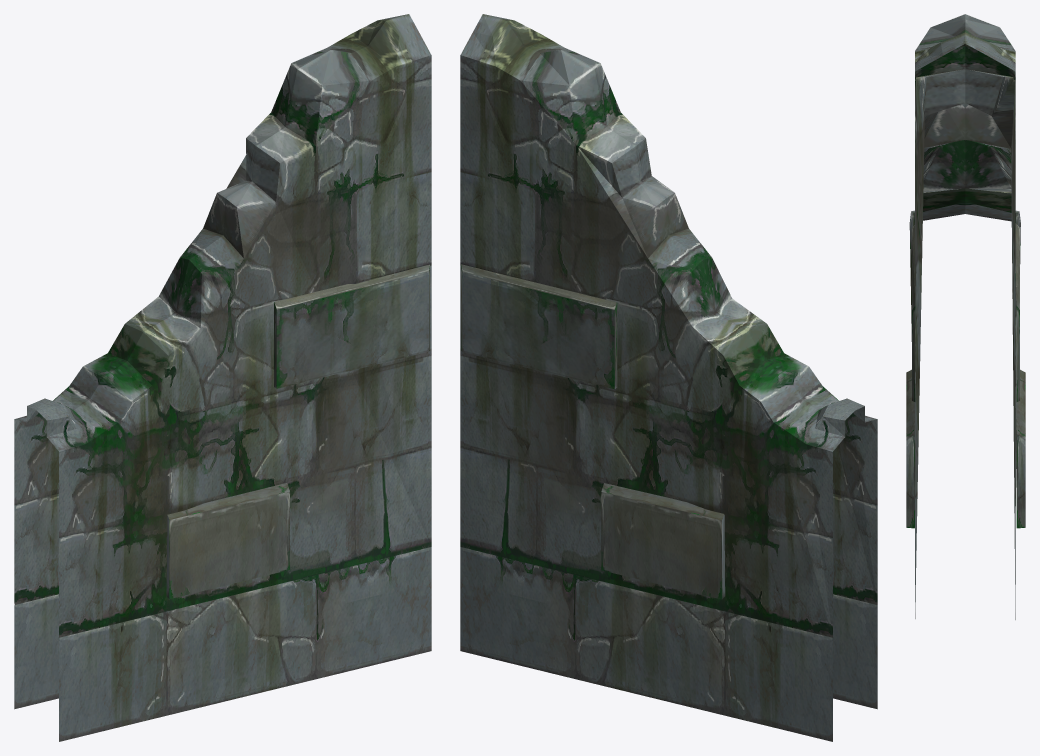
File: stemple_wall_transition_shadow_06.fbx
3 views of the same model, side by side, from view 1: azimuth 30°, elevation 25°; view 2: azimuth 150°, elevation 25°; view 3: azimuth 270°, elevation 25° (orthographic). The views are drawn at different scales.
Visible parts, largest first — view 1: obj2.016; view 2: obj2.016; view 3: obj2.016.
Boxes of the visible parts, x1=… form: obj2.016: x1=14, y1=14, x2=431, y2=741; obj2.016: x1=460, y1=14, x2=877, y2=741; obj2.016: x1=906, y1=14, x2=1025, y2=619.
Size of the model in its own units: 4 by 6.37 by 0.9844.
